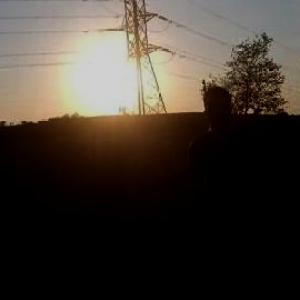follow: (185, 80, 271, 299)
